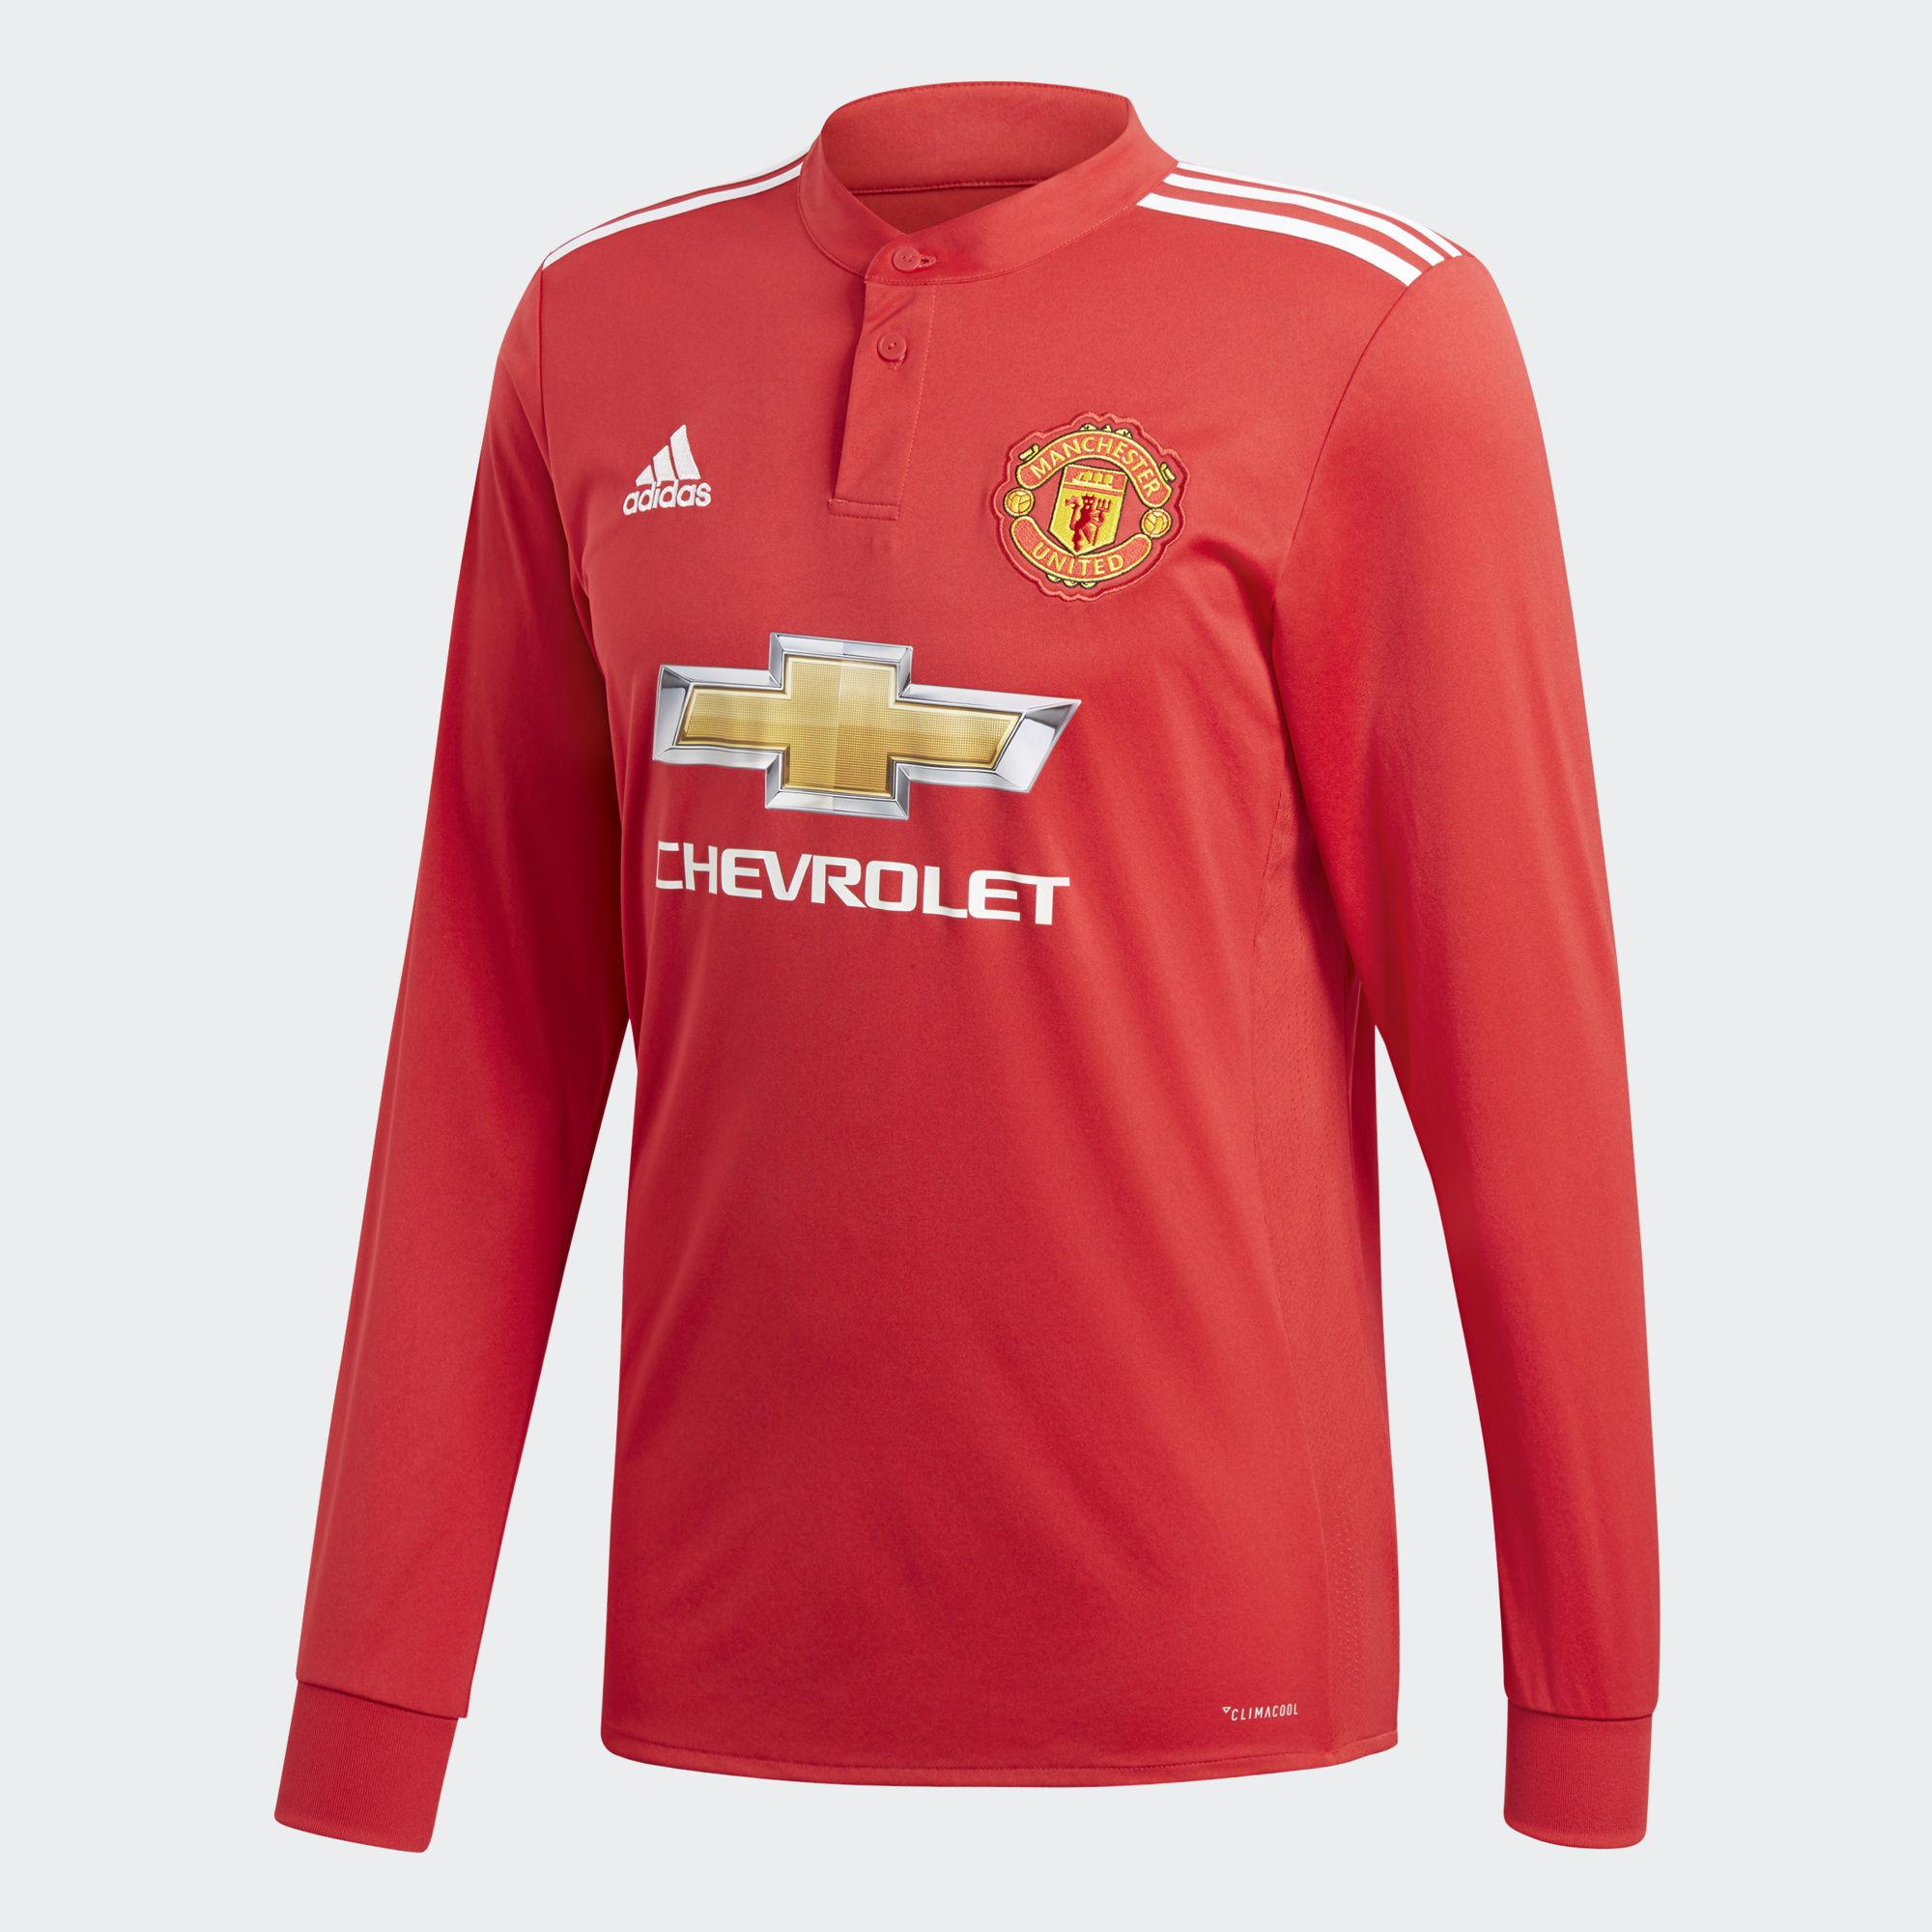teeshirt: (182, 76, 1748, 1928)
